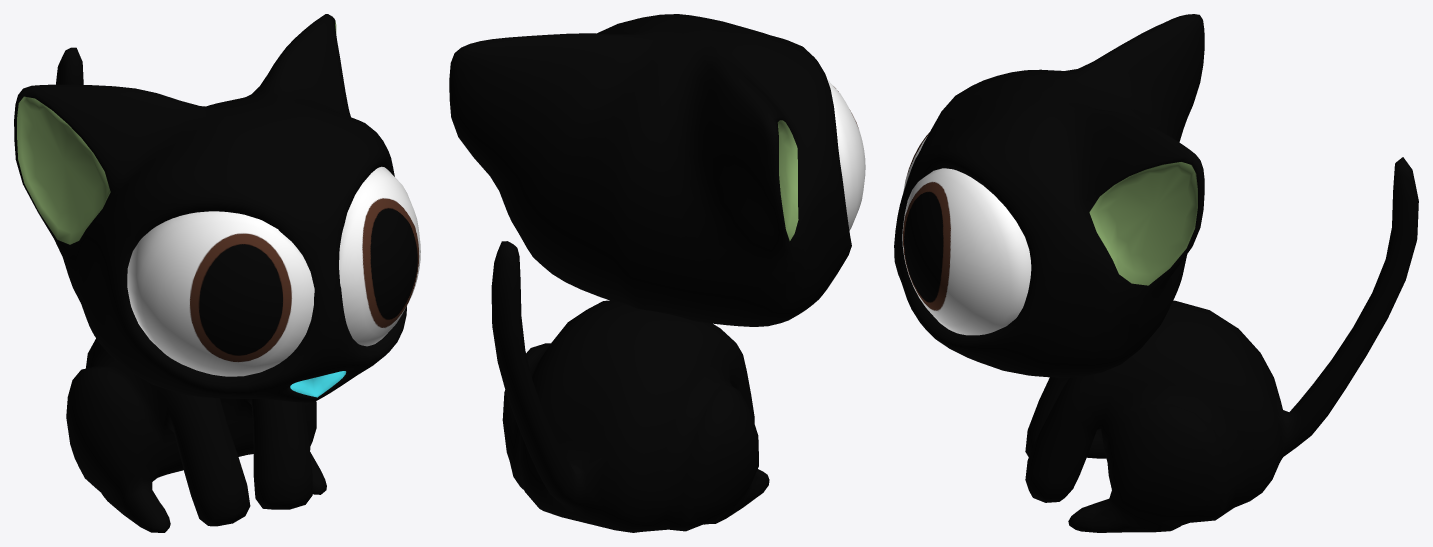
File: ロシャオ3.glb
3 views of the same model, side by side, from view 1: azimuth 30°, elevation 25°; view 2: azimuth 150°, elevation 25°; view 3: azimuth 270°, elevation 25° (orthographic). The views are drawn at different scales.
Visible parts, largest first — view 1: 球; view 2: 球; view 3: 球.
Boxes of the visible parts, x1,y1,x2,y2 form: 球: (14,14,420,532); 球: (449,14,865,532); 球: (894,14,1418,532).
Size of the model in its own units: 1.12 by 1.42 by 1.63.
4 materials, 1 textured.
